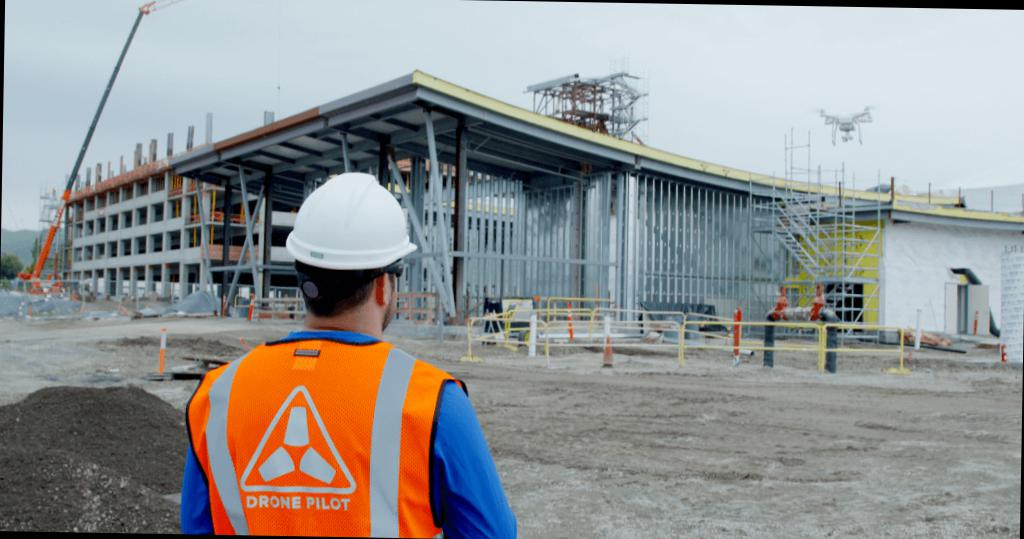drone: (812, 99, 877, 148)
